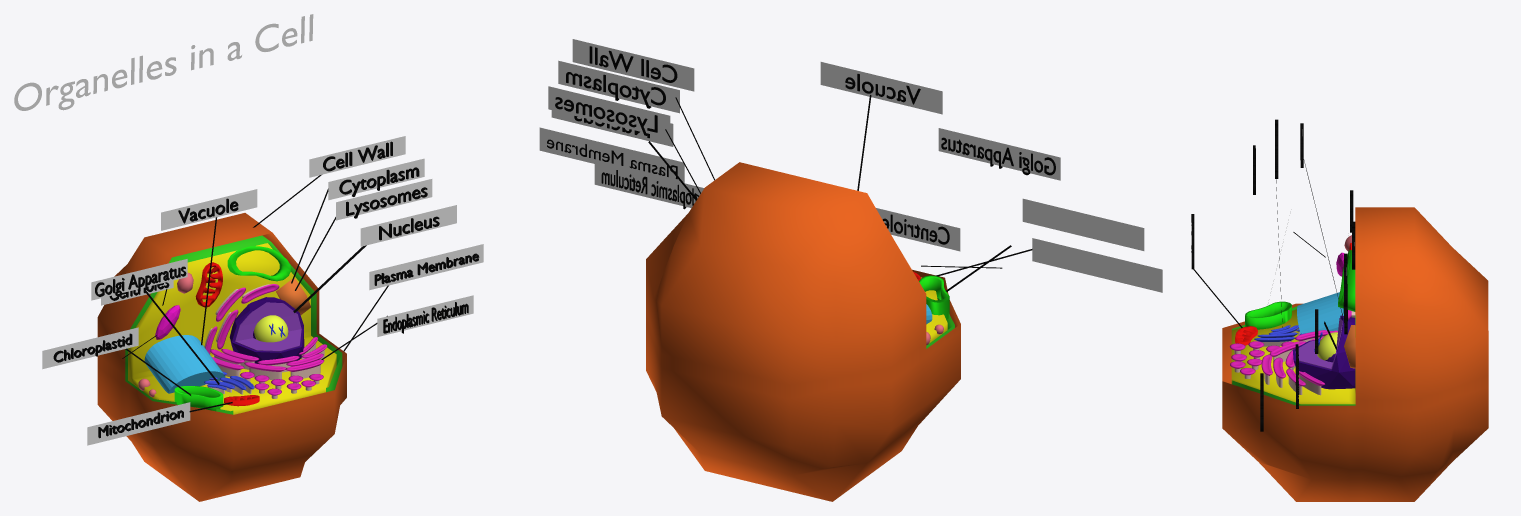
File: cell1.gltf
3 views of the same model, side by side, from view 1: azimuth 30°, elevation 25°; view 2: azimuth 150°, elevation 25°; view 3: azimuth 270°, elevation 25° (orthographic). The views are drawn at different scales.
Visible parts, largest first — view 1: Outside, main, Blue_Top, Cylinder, Text.011, Outside.001, Verde_Interno, Icosphere.006, Plane.005, Plane.004, Plane.002, Plane.001 (+19 smaller); view 2: Outside, Plane.004, Plane.005, Plane.003, Plane.002, Plane.009, Plane.020, Plane.010, Plane.007, Plane.006, Plane.032, Text.012 (+7 smaller); view 3: Outside, main, Blue_Top, Icosphere.007, Verde_Interno, Cylinder, Base_Azules, Icosphere.006, Red_Top, Outside.001, Object_2.001, Piedra_Naranja.
Boxes of the visible parts, bbox=[...] form: Outside: bbox=[97, 213, 346, 501]; main: bbox=[128, 243, 336, 414]; Blue_Top: bbox=[205, 284, 327, 395]; Cylinder: bbox=[144, 335, 225, 393]; Text.011: bbox=[14, 14, 313, 110]; Outside.001: bbox=[125, 235, 342, 414]; Verde_Interno: bbox=[174, 246, 290, 411]; Icosphere.006: bbox=[235, 302, 301, 351]; Plane.005: bbox=[369, 244, 483, 290]; Plane.004: bbox=[87, 402, 190, 445]; Plane.002: bbox=[161, 189, 257, 230]; Plane.001: bbox=[360, 205, 456, 246]; Outside: bbox=[646, 162, 960, 501]; Plane.004: bbox=[1032, 238, 1162, 292]; Plane.005: bbox=[539, 127, 684, 185]; Plane.003: bbox=[1022, 198, 1144, 250]; Plane.002: bbox=[820, 62, 942, 114]; Plane.009: bbox=[572, 39, 694, 91]; Plane.020: bbox=[548, 86, 670, 138]; Plane.010: bbox=[558, 60, 679, 113]; Plane.007: bbox=[938, 128, 1060, 180]; Plane.006: bbox=[594, 164, 704, 207]; Plane.032: bbox=[876, 208, 960, 251]; Text.012: bbox=[941, 137, 1055, 175]; Outside: bbox=[1222, 207, 1488, 501]; main: bbox=[1231, 309, 1355, 404]; Blue_Top: bbox=[1229, 310, 1351, 386]; Icosphere.007: bbox=[1292, 315, 1355, 389]; Verde_Interno: bbox=[1245, 250, 1355, 329]; Cylinder: bbox=[1297, 292, 1343, 333]; Base_Azules: bbox=[1234, 311, 1355, 395]; Icosphere.006: bbox=[1295, 318, 1342, 369]; Red_Top: bbox=[1254, 325, 1305, 341]; Outside.001: bbox=[1232, 306, 1355, 405]; Object_2.001: bbox=[1317, 332, 1337, 360]; Piedra_Naranja: bbox=[1344, 325, 1355, 368].
Size of the model in its own units: 6.37 by 4.84 by 3.51.
